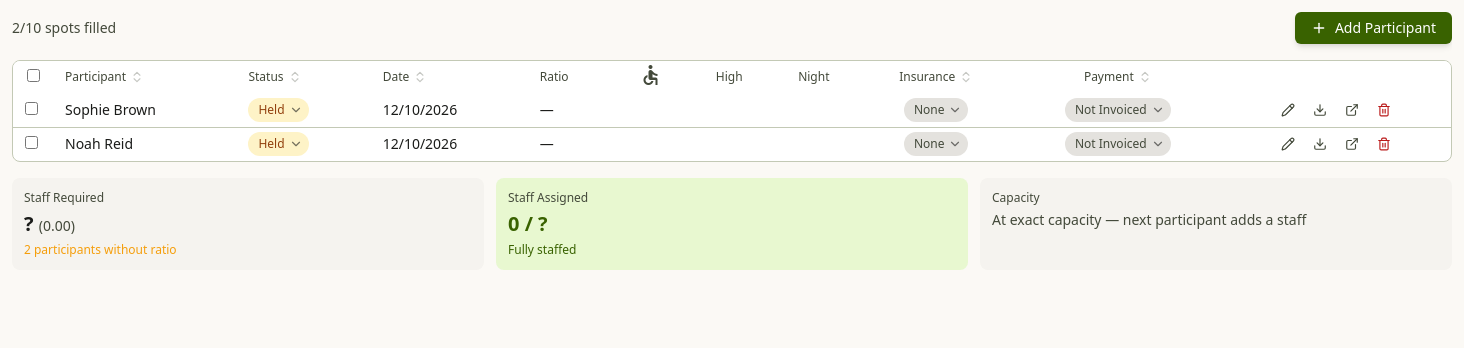
BookingsTab — overlapping and bulk changes, through the real mutation › settles a bulk change of two rows: one refusal is reported and the selection clears
This screenshot has width=1464, height=348.
Click the checkbox named "Select all rows": (33, 76) left=26, top=69, right=40, bottom=82
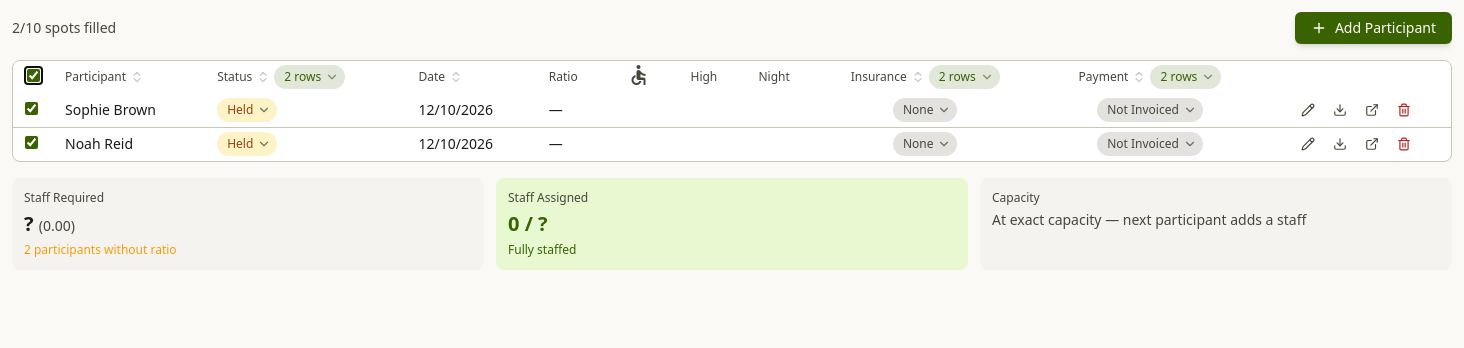
Click the button "2 rows" next to "Payment": (1186, 77) left=1150, top=65, right=1221, bottom=89
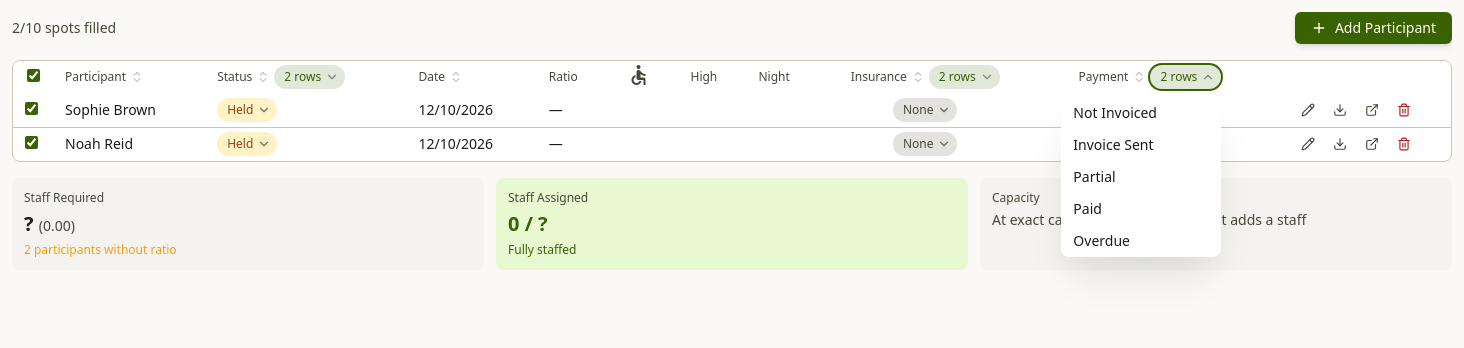
Click the option "Paid": (1088, 208) left=1073, top=199, right=1102, bottom=218
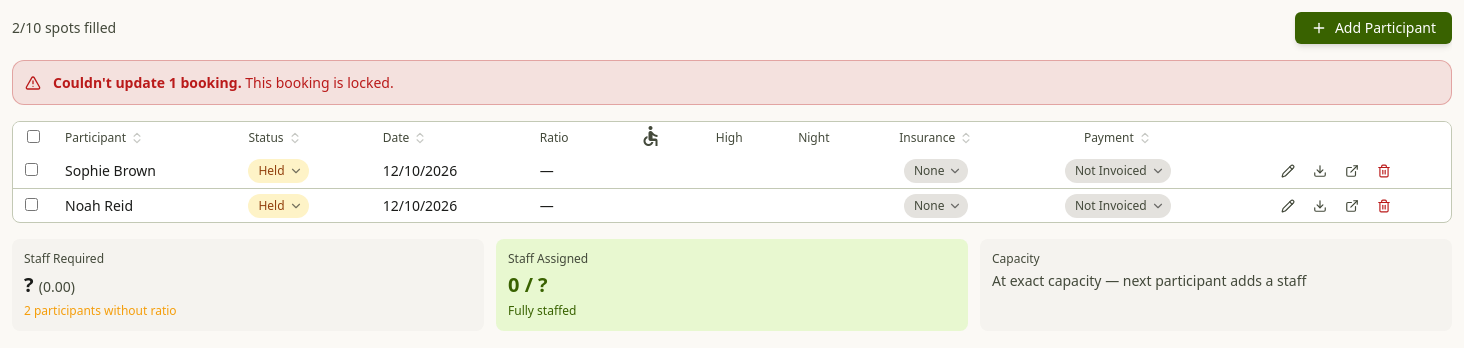
Check: the checkbox named "Select all rows" is not checked, box left=26, top=130, right=40, bottom=143
Check: the text "Couldn't update 1 booking." is shown, box left=53, top=73, right=242, bottom=92
Check: the text "Couldn't update 1 booking. This booking is locked." is shown, box left=53, top=73, right=394, bottom=92
